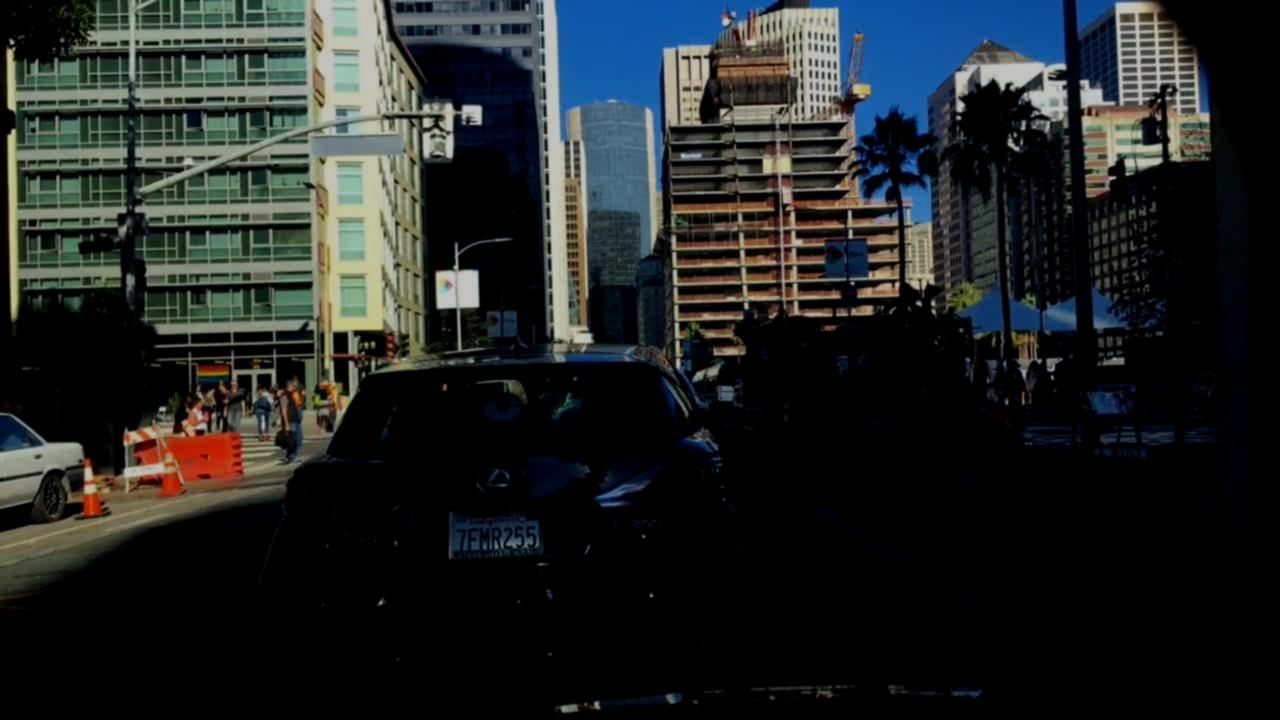lexus: (469, 462, 520, 500)
